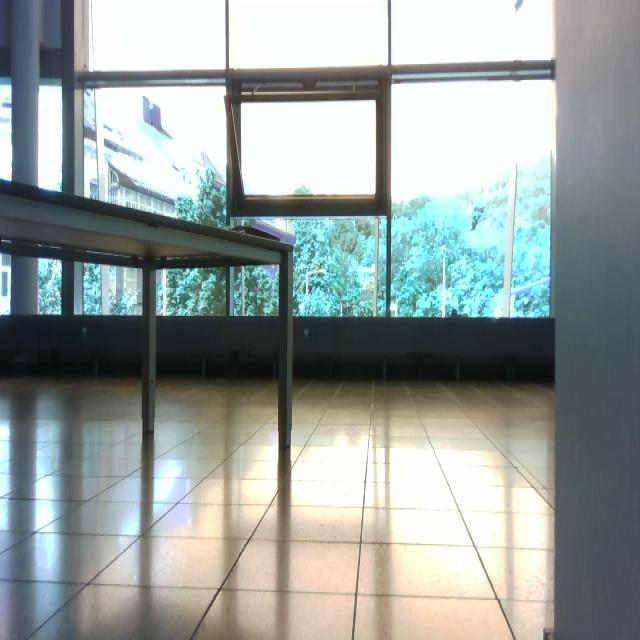door: (2, 1, 639, 638), (152, 261, 284, 446)
light bulb: (299, 303, 305, 311)
pillar: (551, 1, 640, 640)
table: (2, 178, 299, 453)
tiled floor: (1, 375, 556, 639)
